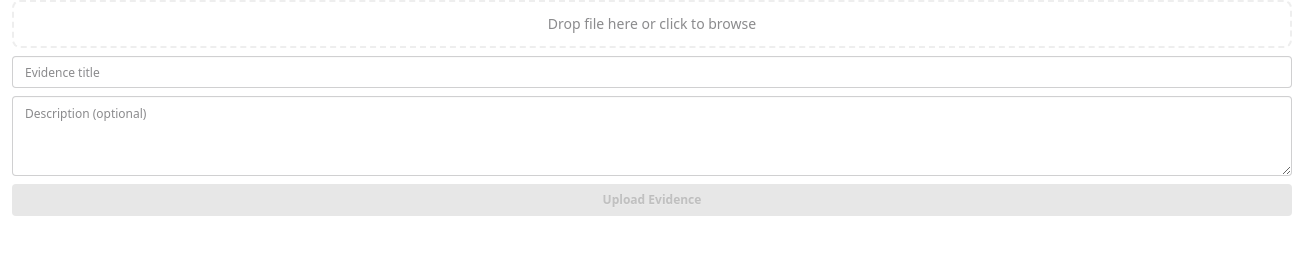
EvidenceUpload › shows error on upload failure
The width and height of the screenshot is (1304, 260).
Type "Bad" into the field with placeholder "Evidence title" at point(652, 72), box [12,56,1292,88]
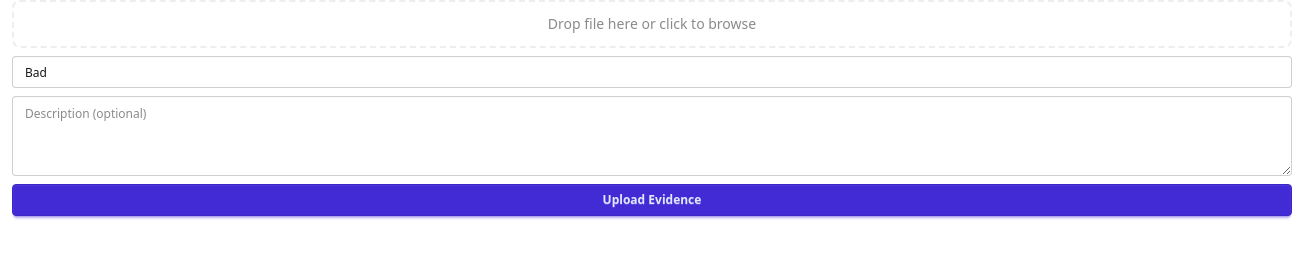
Click the button "Upload Evidence" at point(652, 200), box [12,184,1292,216]
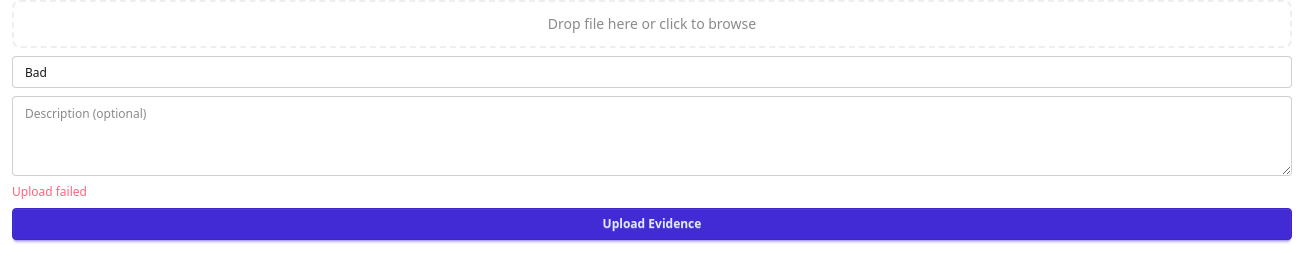
Result: the text "Upload failed" is shown at [12,183,87,200]
